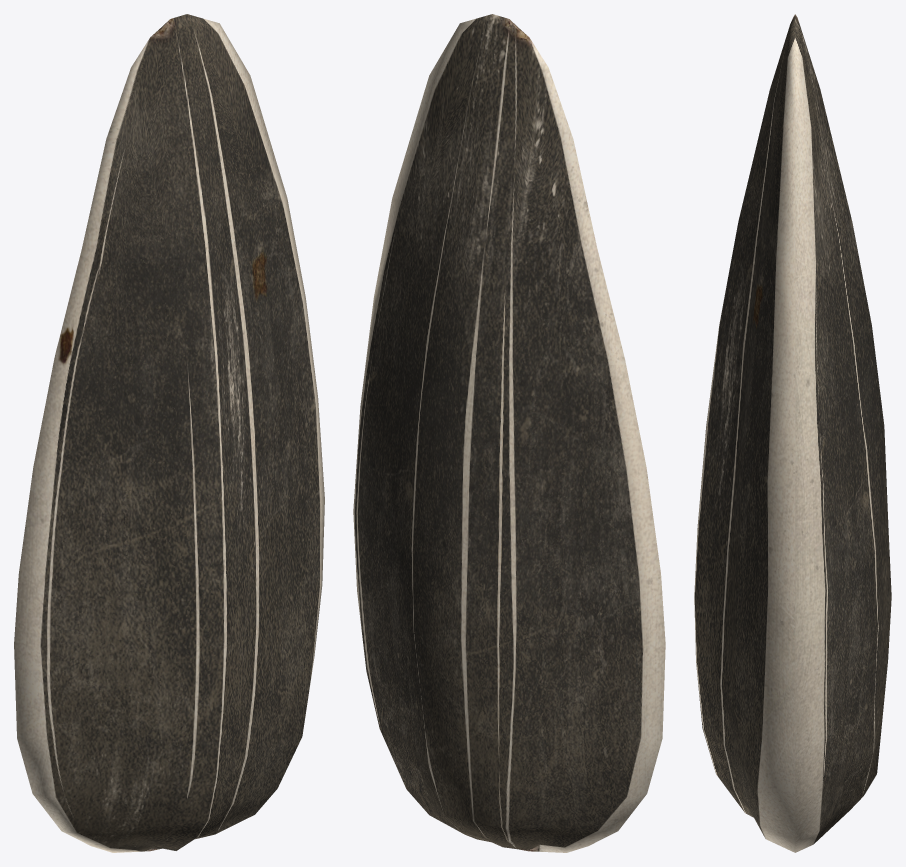
Rendered from Sunflower_Seed.fbx.
3 renders of one model, left to right at view 1: azimuth 30°, elevation 25°; view 2: azimuth 150°, elevation 25°; view 3: azimuth 270°, elevation 25°, orthographic.
Parts seen in each view (by area): view 1: Sunflower_Seed_model; view 2: Sunflower_Seed_model; view 3: Sunflower_Seed_model.
Boxes of the visible parts, x1=… form: Sunflower_Seed_model: x1=14, y1=14, x2=324, y2=852; Sunflower_Seed_model: x1=353, y1=14, x2=665, y2=852; Sunflower_Seed_model: x1=694, y1=14, x2=891, y2=852.
Size of the model in its own units: 1.43 by 3.63 by 0.7937.
